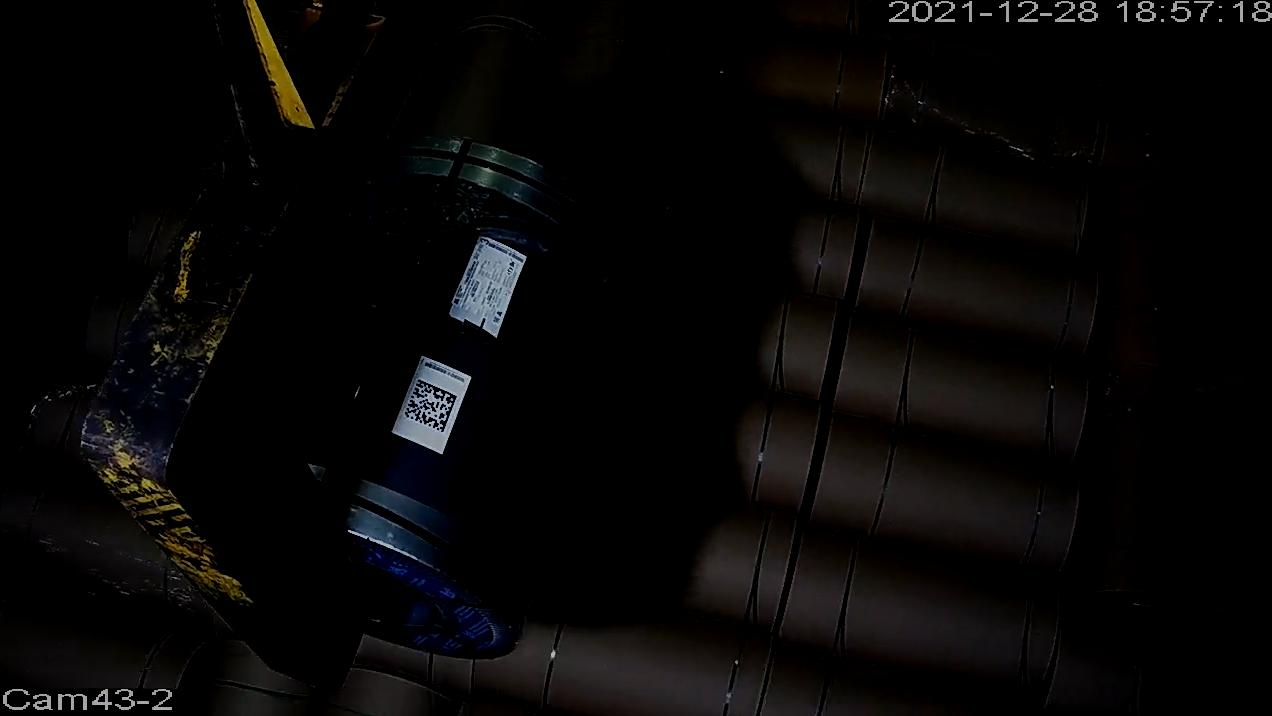data matrix: (402, 378, 459, 435)
